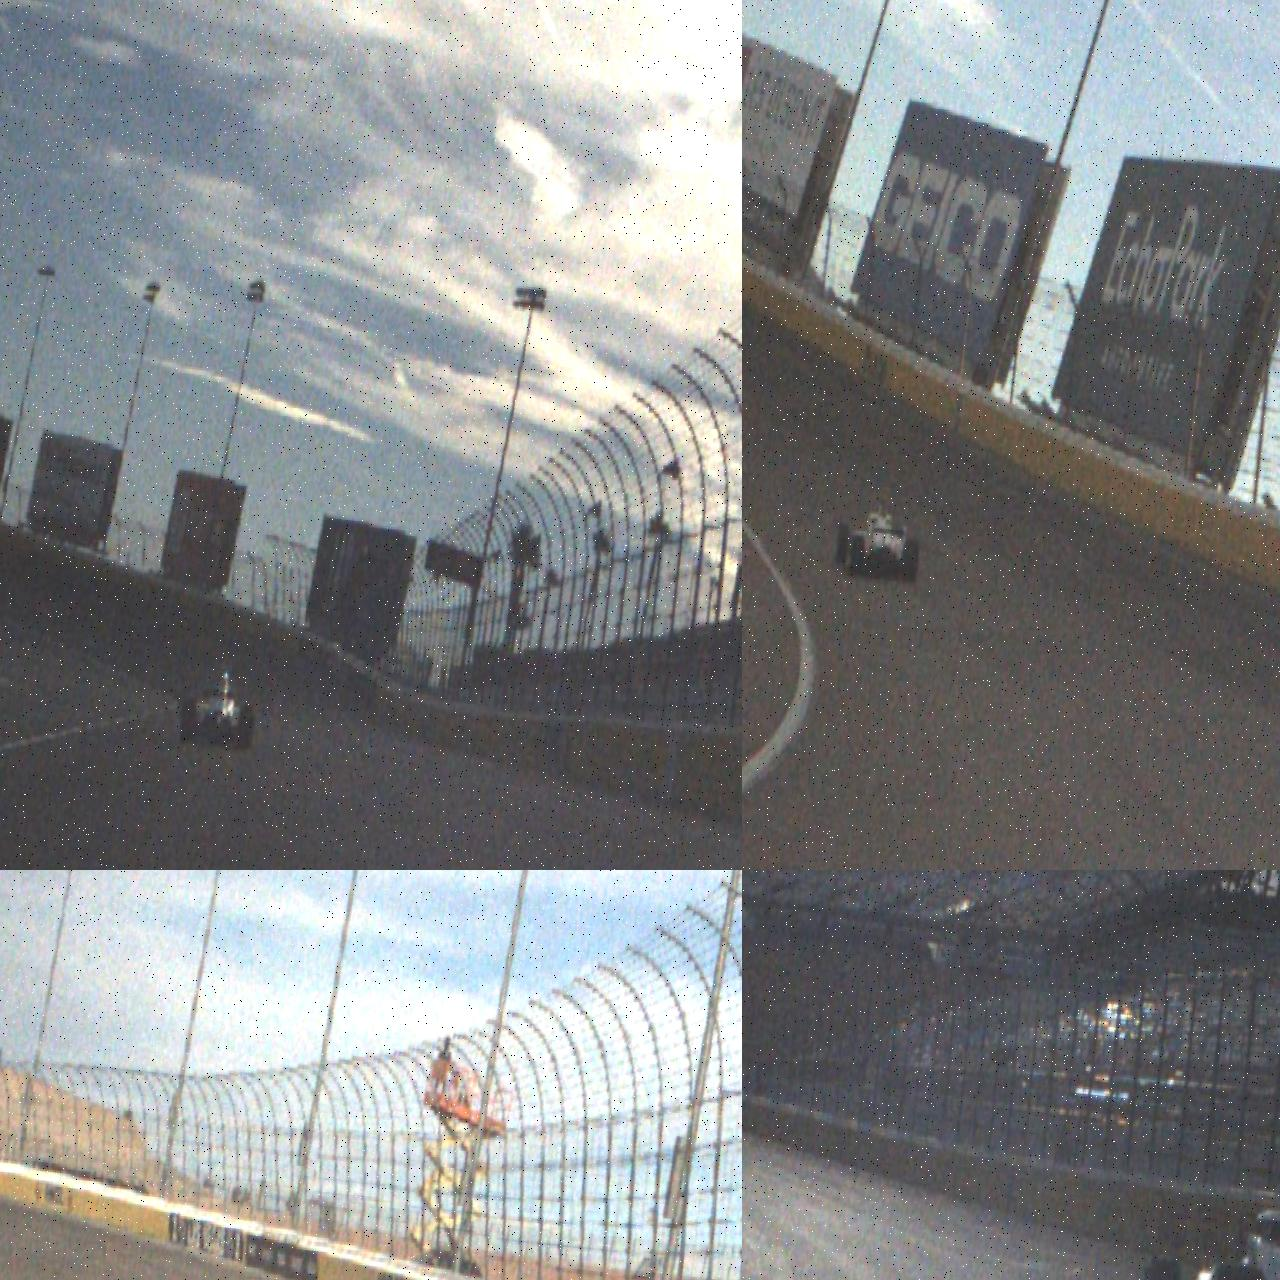AV: (1120, 1128, 1280, 1280), (832, 496, 925, 584), (178, 660, 262, 753)
Wheel: (236, 704, 257, 752), (900, 538, 921, 584), (178, 699, 197, 746), (846, 536, 866, 578), (834, 522, 850, 566)
